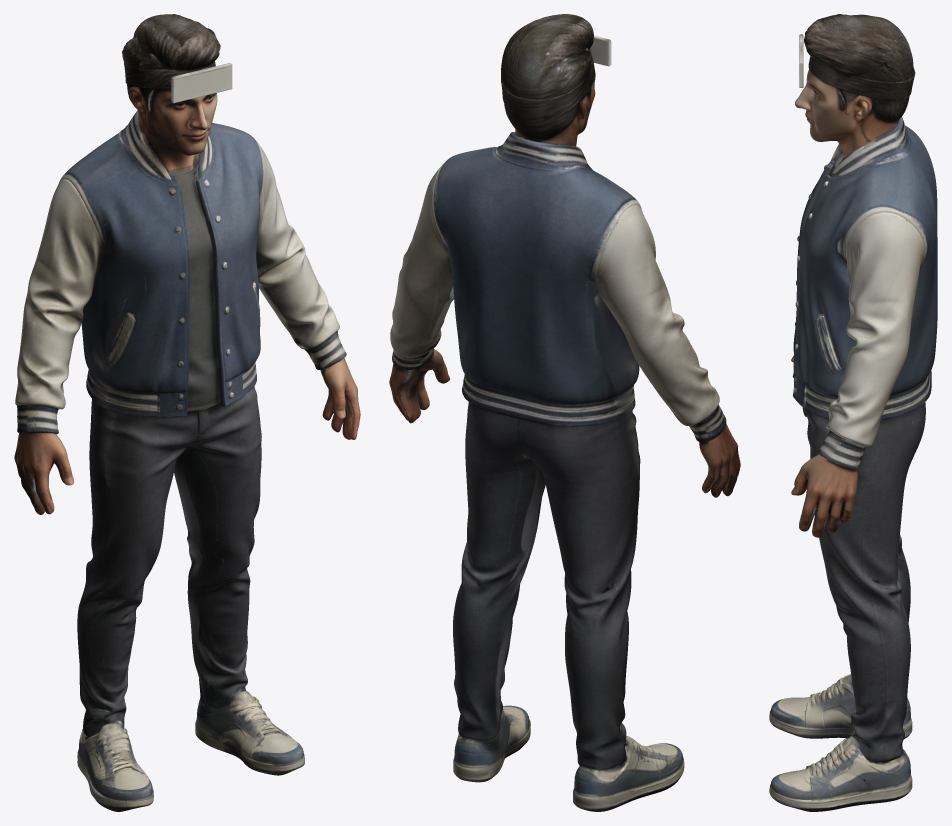
File: c01-varsity.glb
3 renders of one model, left to right at view 1: azimuth 30°, elevation 25°; view 2: azimuth 150°, elevation 25°; view 3: azimuth 270°, elevation 25°, orthographic.
Parts seen in each view (by area): view 1: mesh_uv.obj; view 2: mesh_uv.obj; view 3: mesh_uv.obj.
Part boxes in pixels (x1=…): mesh_uv.obj: x1=14, y1=14, x2=360, y2=811; mesh_uv.obj: x1=389, y1=14, x2=740, y2=811; mesh_uv.obj: x1=769, y1=14, x2=937, y2=811.
Bounding box in the file's own units: 0.8362 × 1.8 × 0.369.
Materials: 1 (1 with a texture image).
